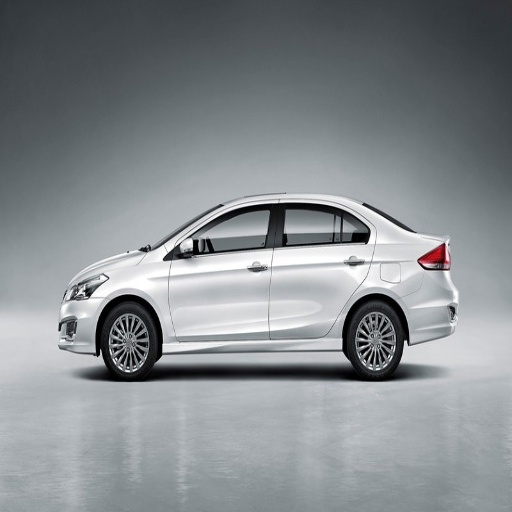back_left_door: (270, 201, 374, 338)
front_left_door: (169, 202, 277, 340)
